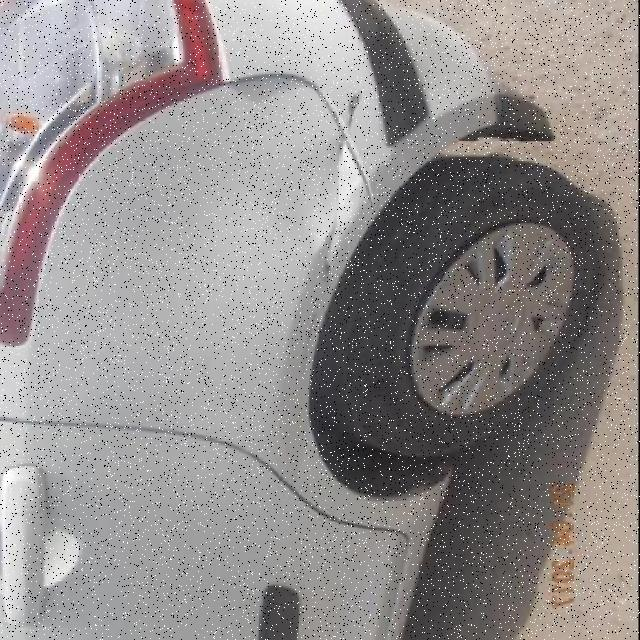damage: (321, 88, 363, 280), (296, 315, 322, 415)
